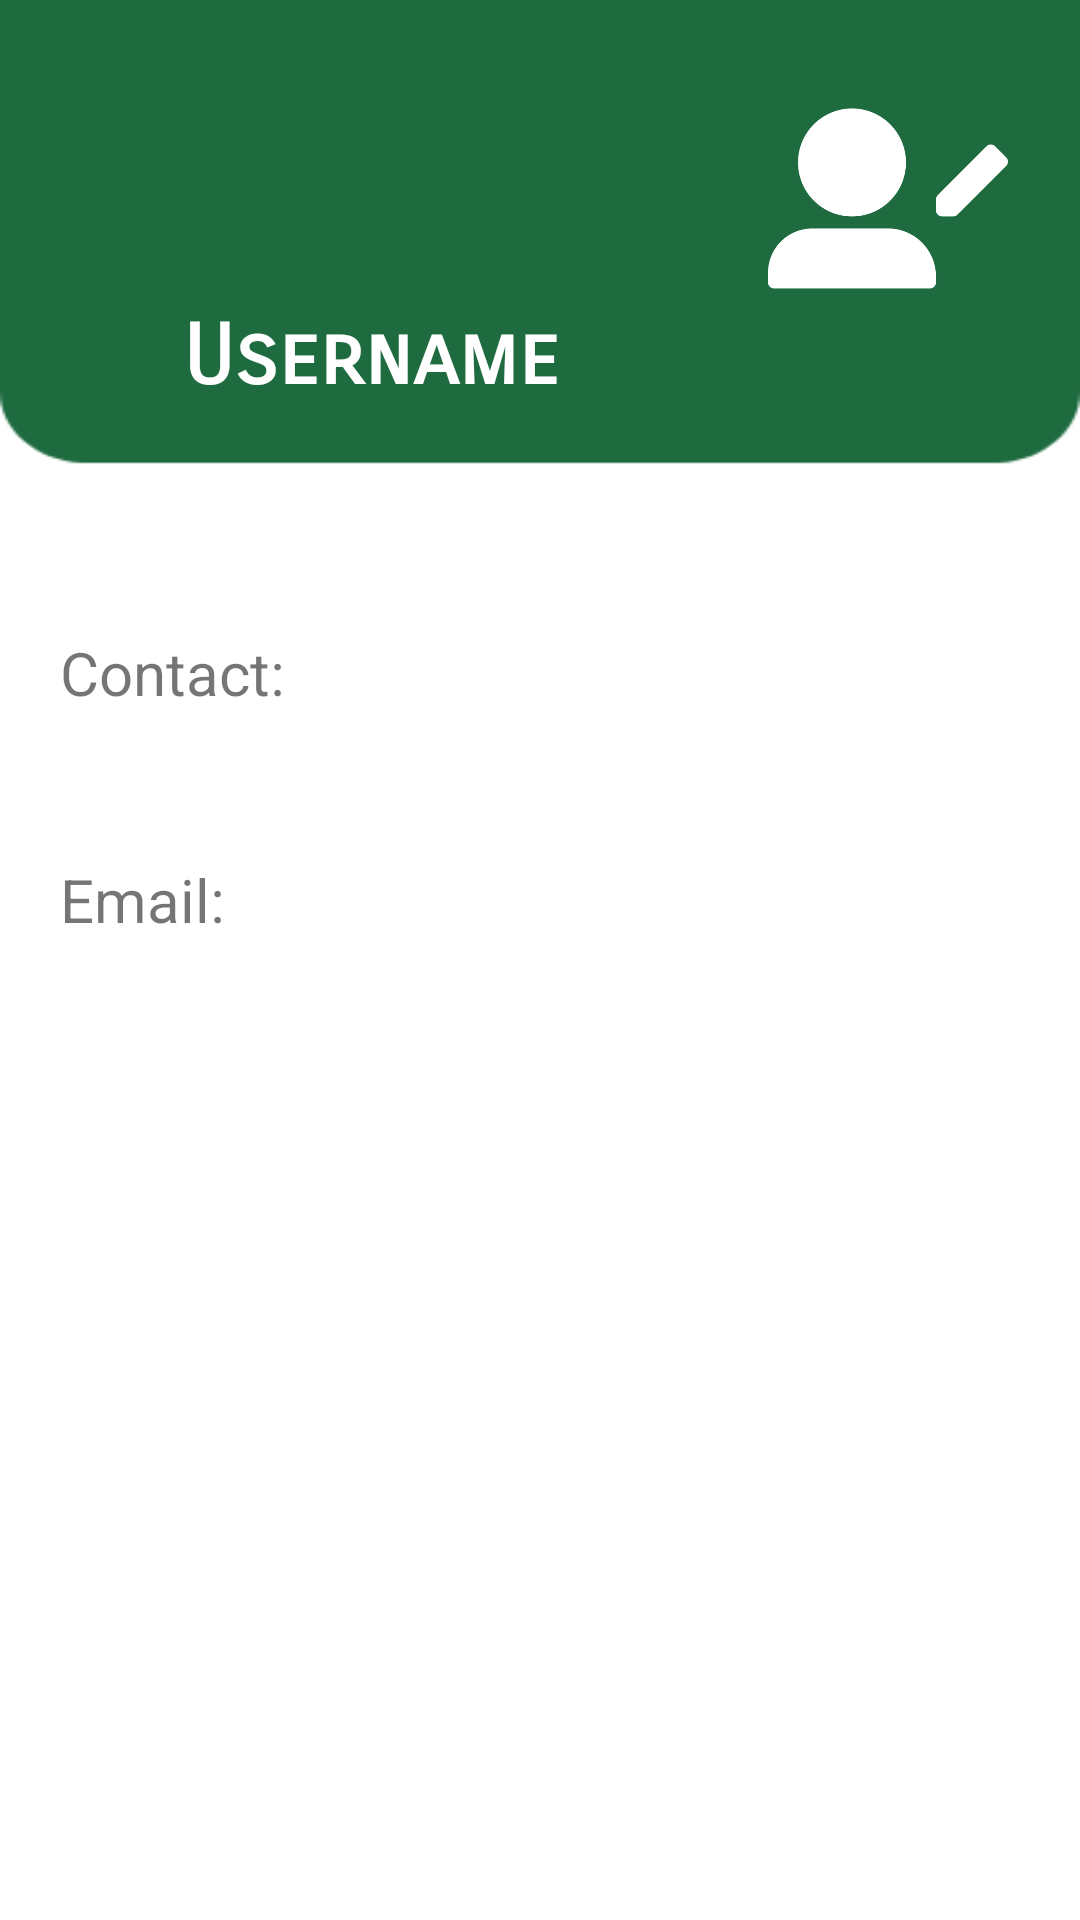

Screen size 1080x1920. Icon name, then its center in pixels as (x=x, y=y):
editprofile: (x=888, y=198)
